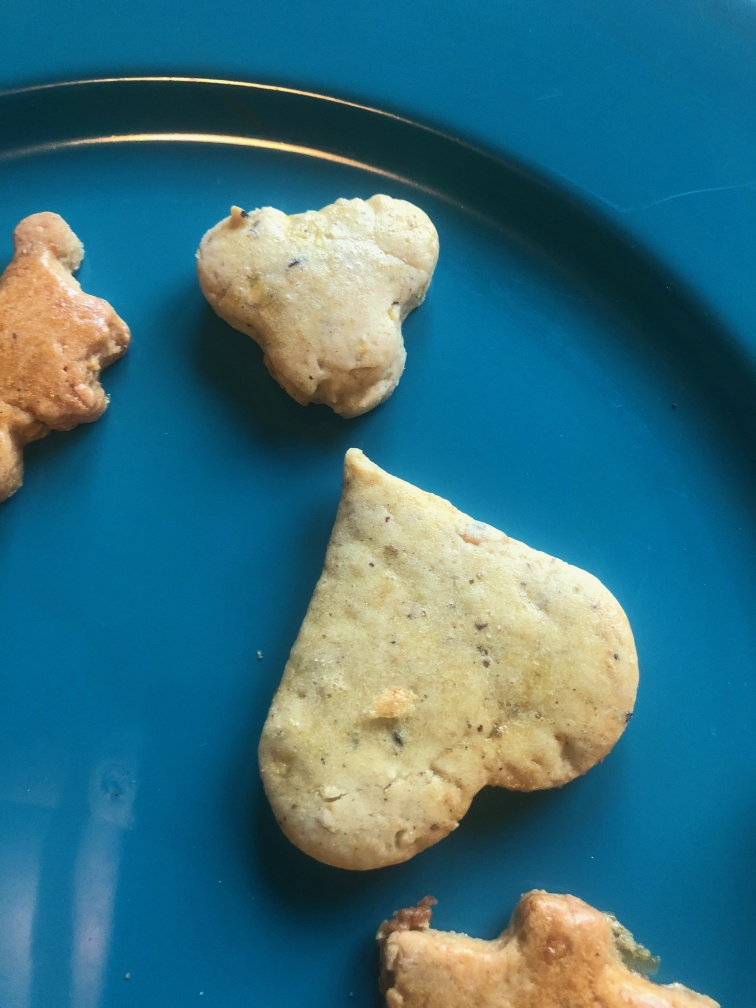flake: (191, 174, 452, 421)
heart: (242, 432, 643, 871)
santa claus: (3, 194, 140, 509)
